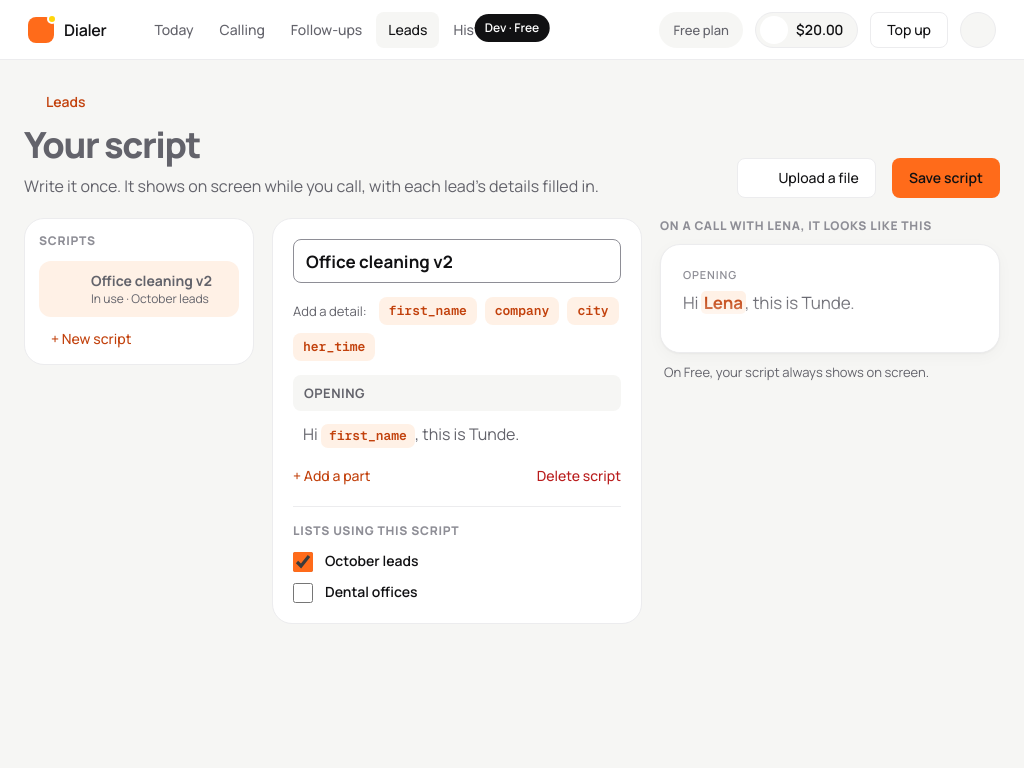
Test: live scripts › deletes a script after asking
Click the button "Delete script". click: click(579, 476)
box: [537,466,621,486]
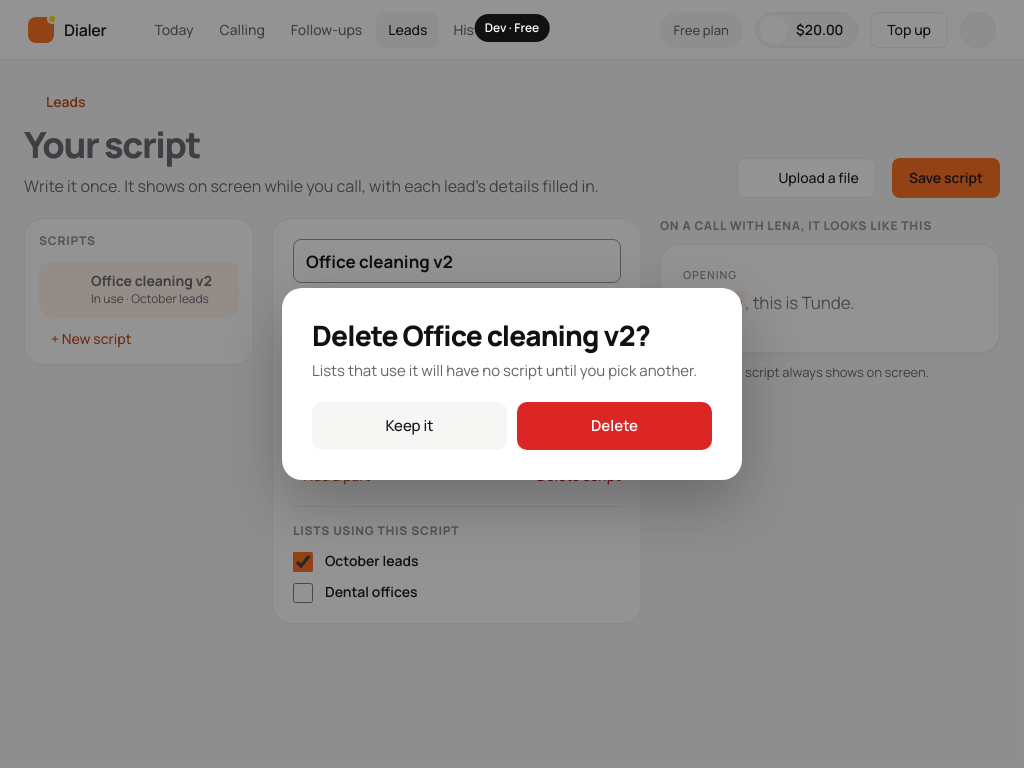
Expected: the text "Lists that use it will have no script until you pick another." is shown, [312,360,712,382]
Click the button "Delete". click: click(614, 426)
box: [517,402,712,450]
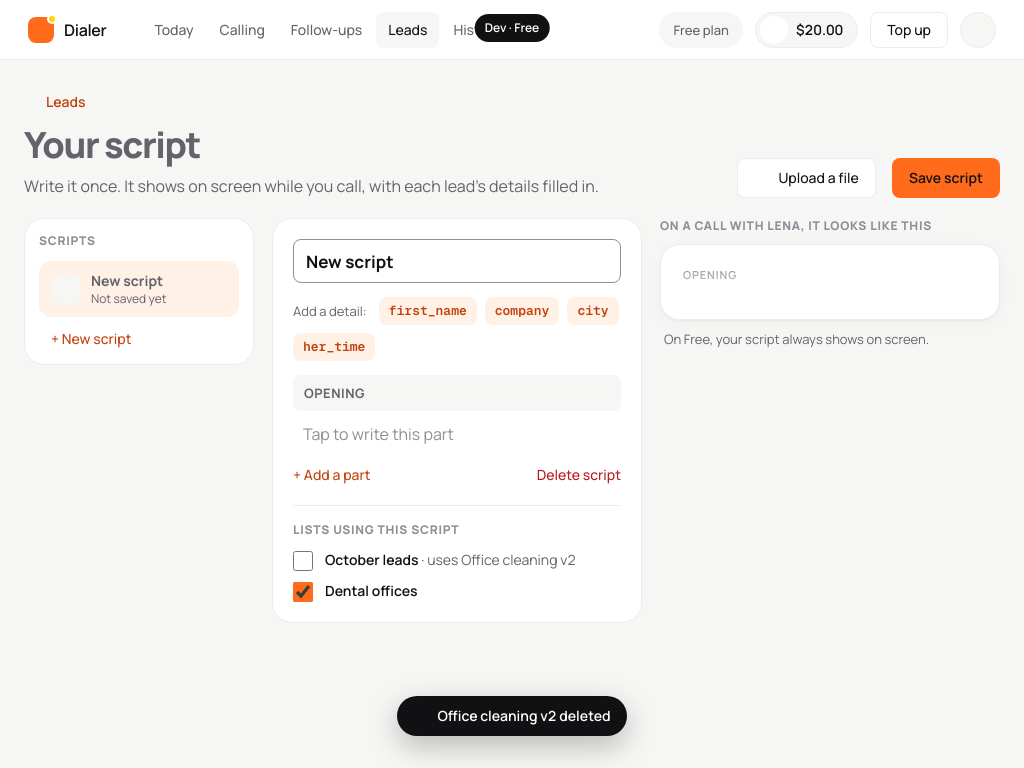
Expected: the text "Office cleaning v2 deleted" is shown, [397,696,627,736]
Expected: the text "Not saved yet" is shown, [91,290,166,307]
